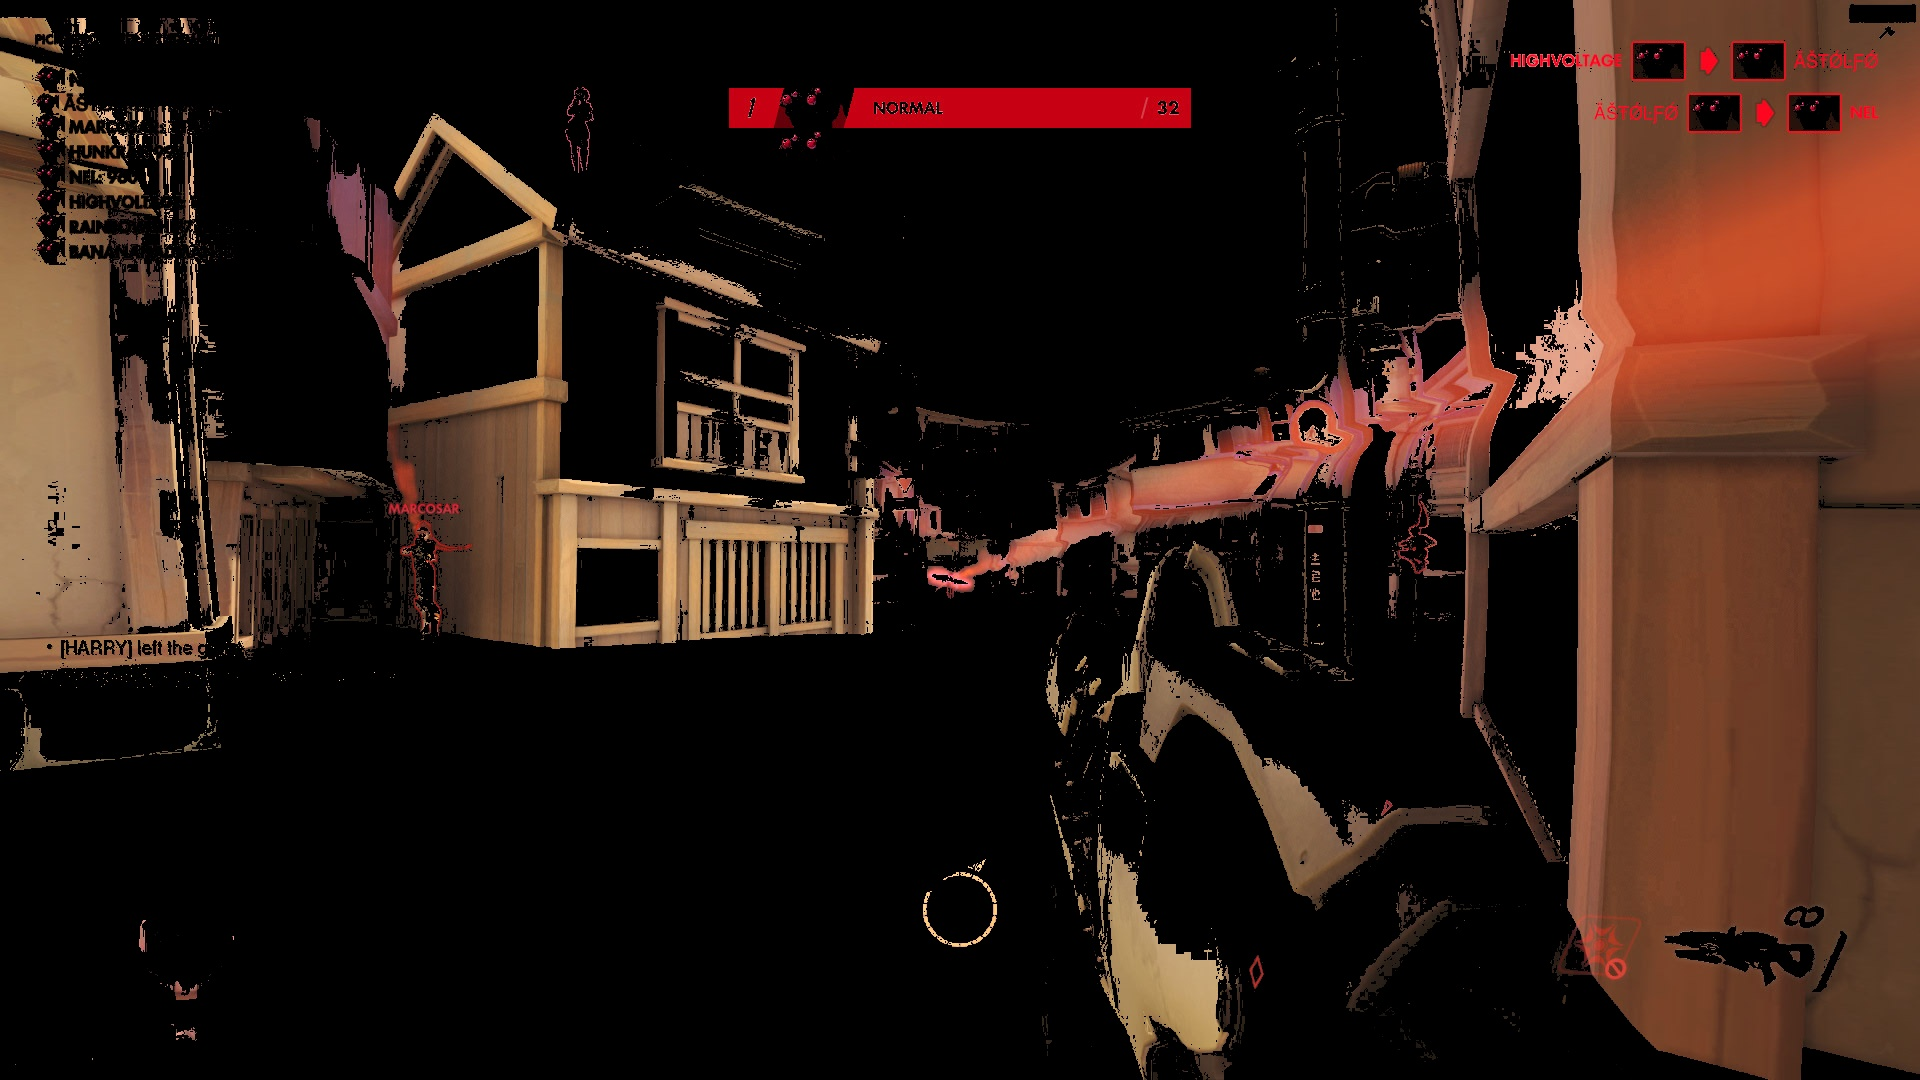widowmaker: (394, 516, 465, 646), (558, 83, 603, 193), (1393, 520, 1441, 579), (943, 568, 959, 604)
